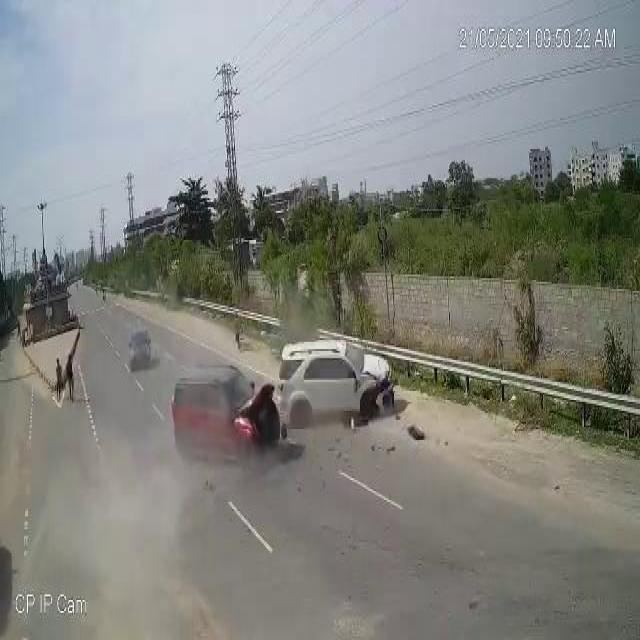accident: (160, 313, 428, 489)
